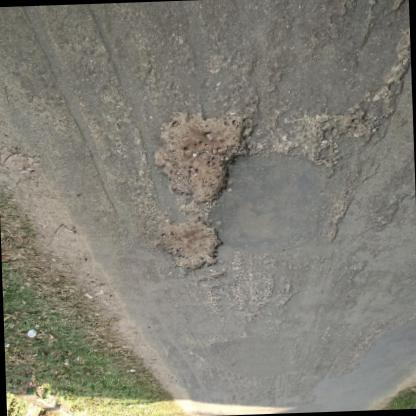pothole: (151, 110, 254, 209), (282, 108, 380, 166), (156, 221, 224, 277)
